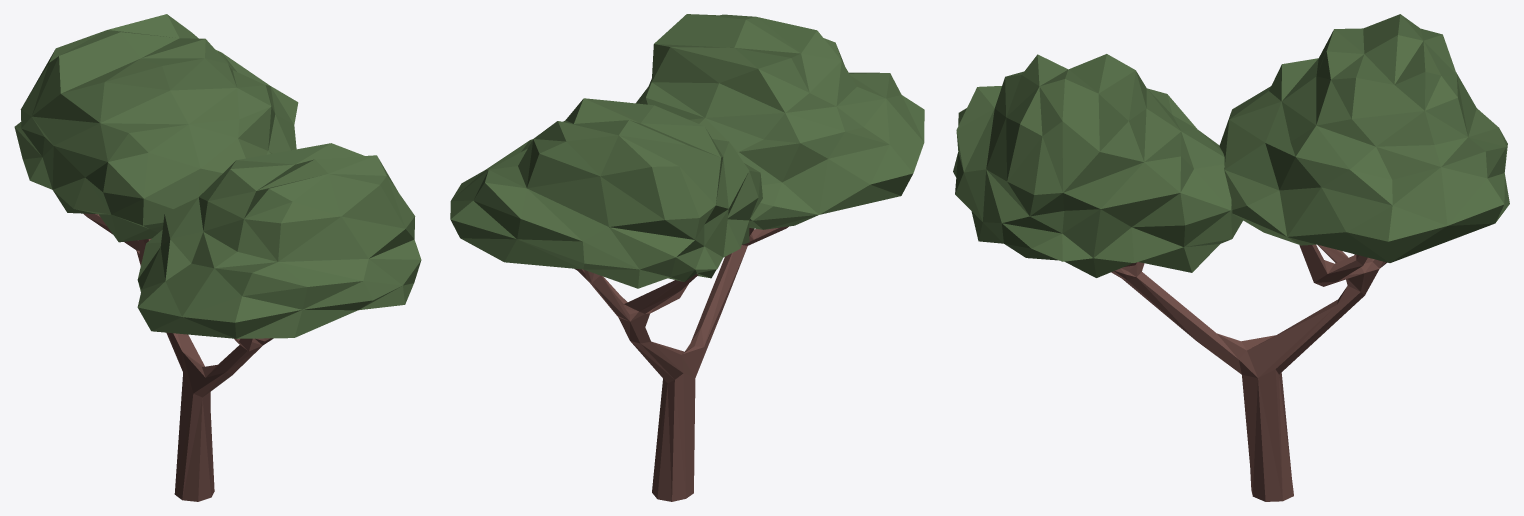
Rendered from CommonTree_1.lod2.glb.
3 views of the same model, side by side, from view 1: azimuth 30°, elevation 25°; view 2: azimuth 150°, elevation 25°; view 3: azimuth 270°, elevation 25° (orthographic). The views are drawn at different scales.
Visible parts, largest first — view 1: CommonTree_1; view 2: CommonTree_1; view 3: CommonTree_1.
Part boxes in pixels (x1=…): CommonTree_1: x1=14, y1=14, x2=421, y2=501; CommonTree_1: x1=450, y1=14, x2=924, y2=501; CommonTree_1: x1=953, y1=14, x2=1509, y2=501.
Size of the model in its own units: 1.89 by 2.48 by 2.77.
